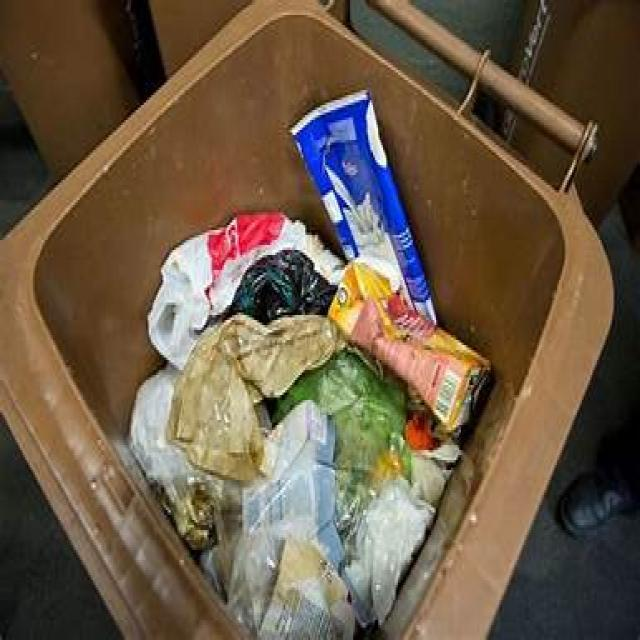Garbage: (130, 90, 491, 639)
Plastic_Bag: (148, 211, 342, 368), (169, 315, 344, 480), (270, 351, 410, 545), (228, 400, 341, 632), (130, 366, 242, 598), (345, 479, 435, 625), (230, 249, 336, 324)
